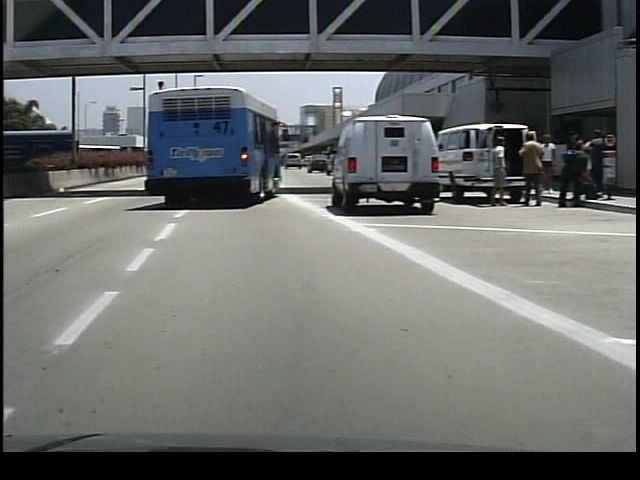person: (512, 130, 542, 211), (483, 133, 507, 211)
